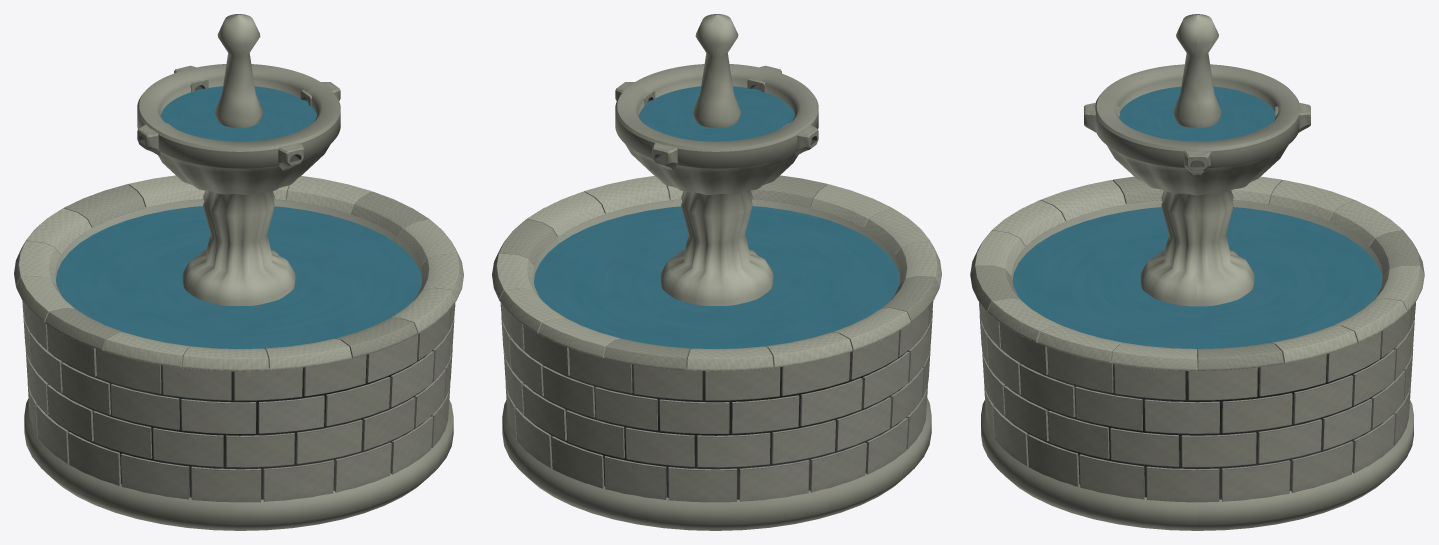
The model's file is fountain.glb.
3 views of the same model, side by side, from view 1: azimuth 30°, elevation 25°; view 2: azimuth 150°, elevation 25°; view 3: azimuth 270°, elevation 25° (orthographic).
Visible parts, largest first — view 1: FountainBody; view 2: FountainBody; view 3: FountainBody.
Part boxes in pixels (box(x1,y1,x2,y2)): FountainBody: box(14, 14, 463, 530); FountainBody: box(492, 14, 941, 530); FountainBody: box(970, 14, 1424, 530).
Bounding box in the file's own units: 3.14 × 3.32 × 3.18.
1 material, 1 textured.
